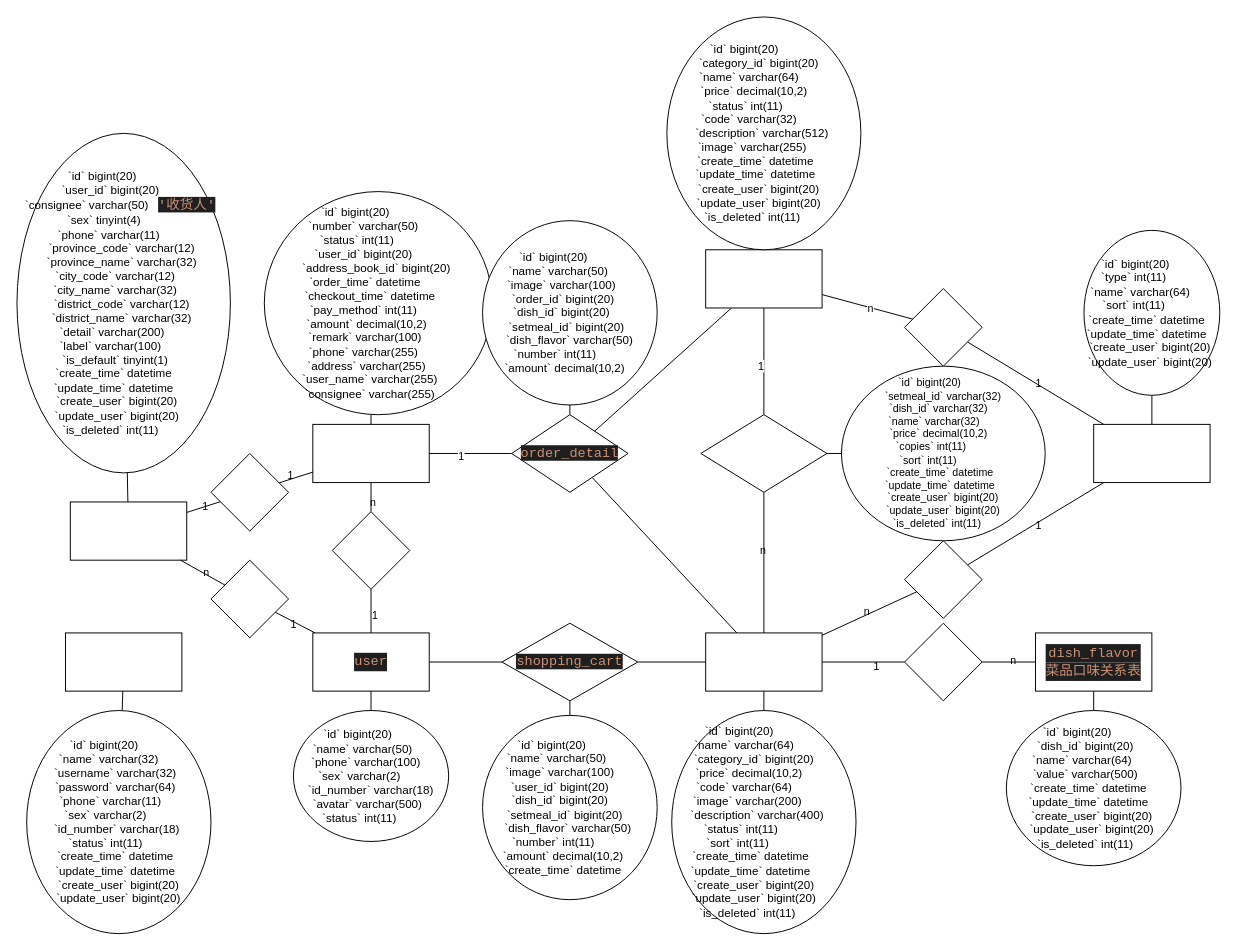
Image size: 1237x951. Some labels were removed from this diagram. The centre of each missing label's shape, as x and y in pixels:
address_book 地址管理: point (128, 530)
category 菜品及套餐分类: point (1151, 453)
dish 菜品管理: point (763, 661)
employee: point (123, 661)
orders: point (370, 453)
setmeal 套餐: point (763, 278)
setmeal_dish: point (763, 453)
